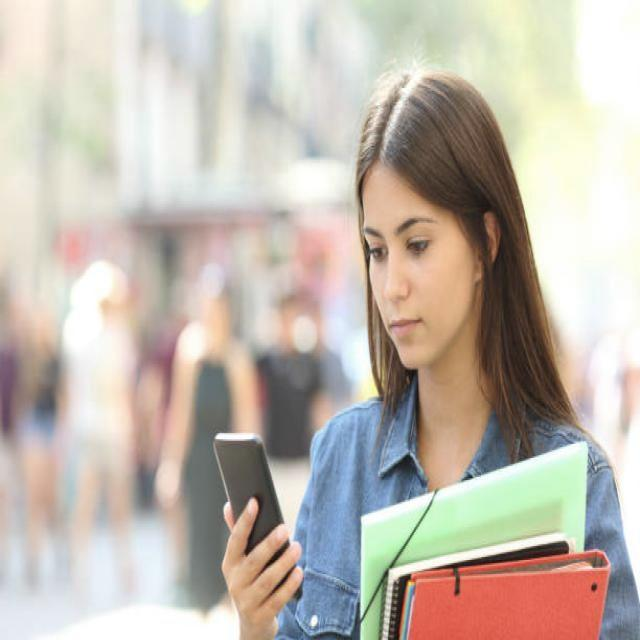Phone use: (189, 62, 558, 608)
